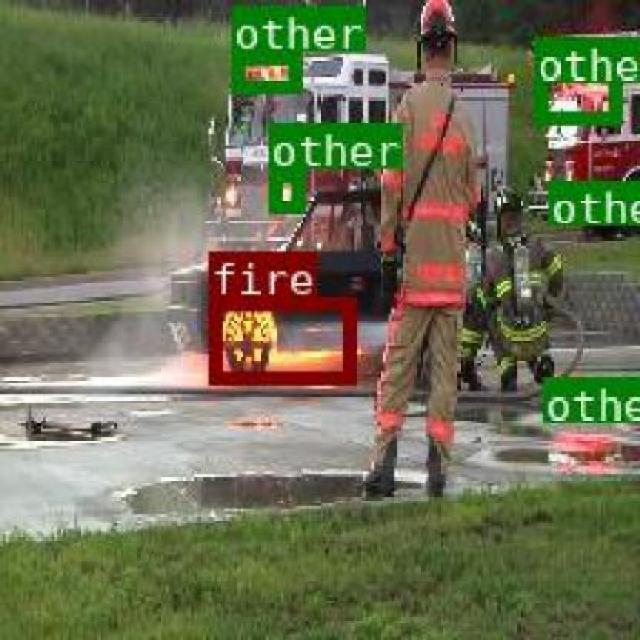Fire: (208, 296, 354, 382)
Smoke: (109, 202, 203, 358)
